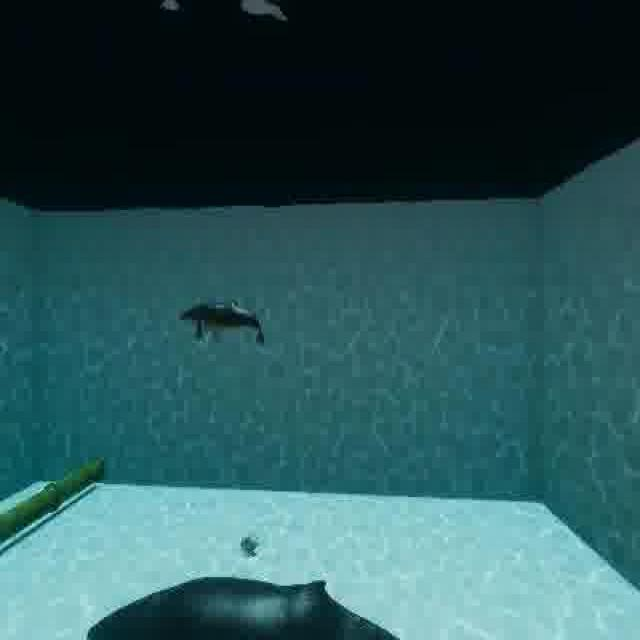Pipe: (0, 433, 115, 575)
Shell: (234, 524, 262, 570)
Whale: (66, 573, 418, 640), (172, 289, 277, 362)
